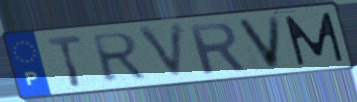M: (281, 10, 347, 68)
R: (185, 21, 249, 77), (88, 30, 149, 85)
T: (44, 33, 86, 89)
V: (134, 20, 188, 83), (233, 14, 283, 72)
